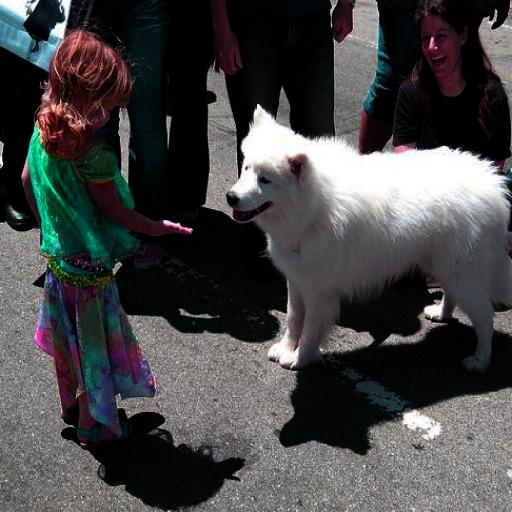dog_face: (215, 106, 312, 228)
